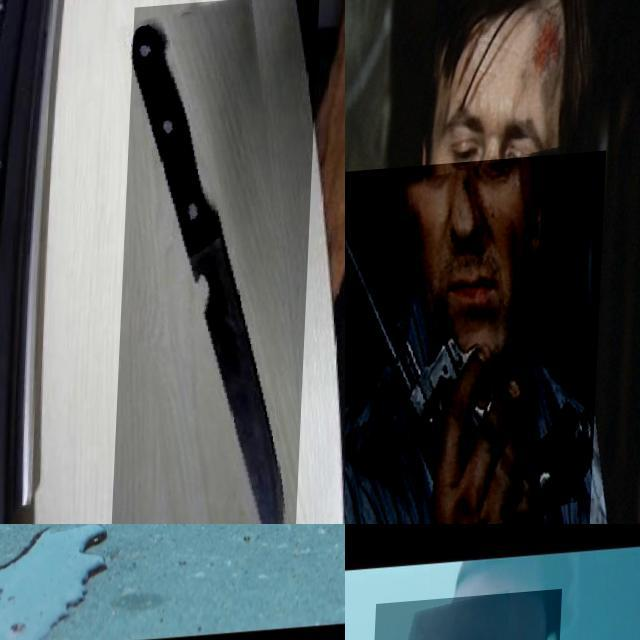-: (114, 0, 320, 524)
gun-knife-thesis - v11 Yolov5 augmented: (345, 158, 608, 524), (35, 524, 345, 623), (361, 597, 563, 640)
